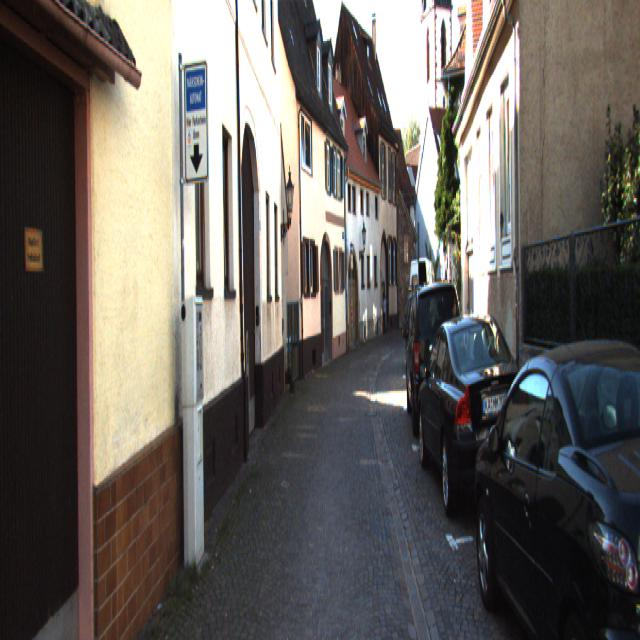Car: (470, 321, 640, 638), (415, 303, 529, 533), (402, 273, 467, 439), (409, 256, 440, 345)
